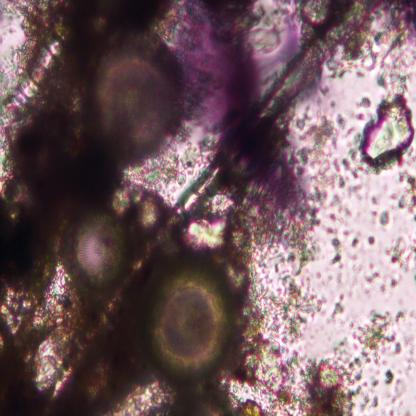Background material: (0, 129, 79, 410), (236, 145, 324, 263), (233, 267, 302, 415), (0, 21, 70, 129), (298, 106, 360, 186), (344, 1, 416, 67), (358, 94, 416, 167), (353, 305, 402, 380), (301, 358, 357, 416), (122, 162, 188, 187), (385, 370, 413, 410), (328, 213, 348, 263), (397, 172, 416, 221), (299, 284, 325, 318), (391, 235, 416, 270), (362, 264, 379, 285), (330, 302, 346, 320), (378, 208, 390, 228), (340, 289, 351, 307), (382, 276, 396, 290), (359, 94, 369, 112), (350, 233, 361, 248), (365, 233, 377, 244)
Diatom: (89, 42, 185, 158), (145, 259, 235, 382), (64, 208, 128, 290), (132, 191, 162, 229)
Pen: (168, 3, 300, 198)
